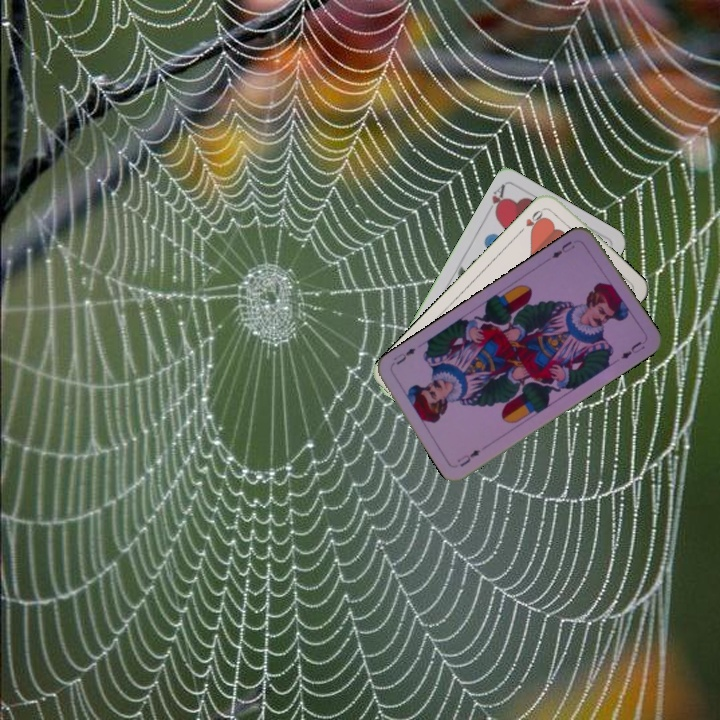EU: (453, 445, 483, 470), (548, 237, 577, 261)
HA: (482, 180, 508, 219)
HO: (515, 204, 548, 236)
